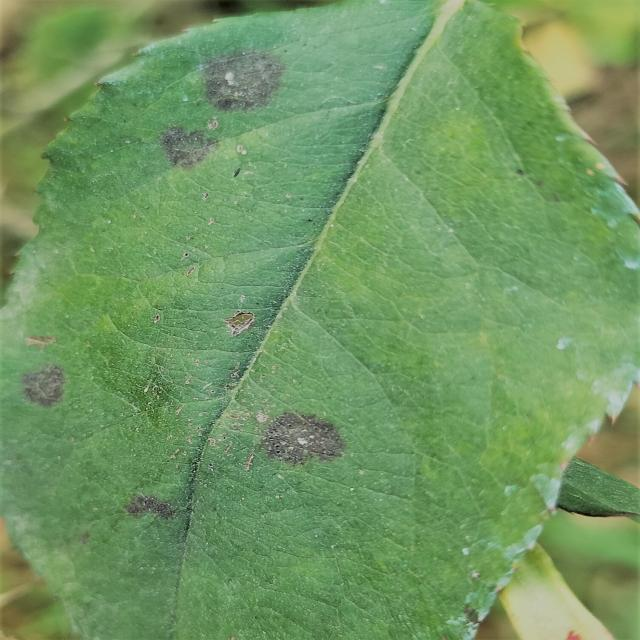Black_spot: (197, 47, 286, 114), (258, 407, 347, 469)
Rose: (1, 0, 638, 638)
